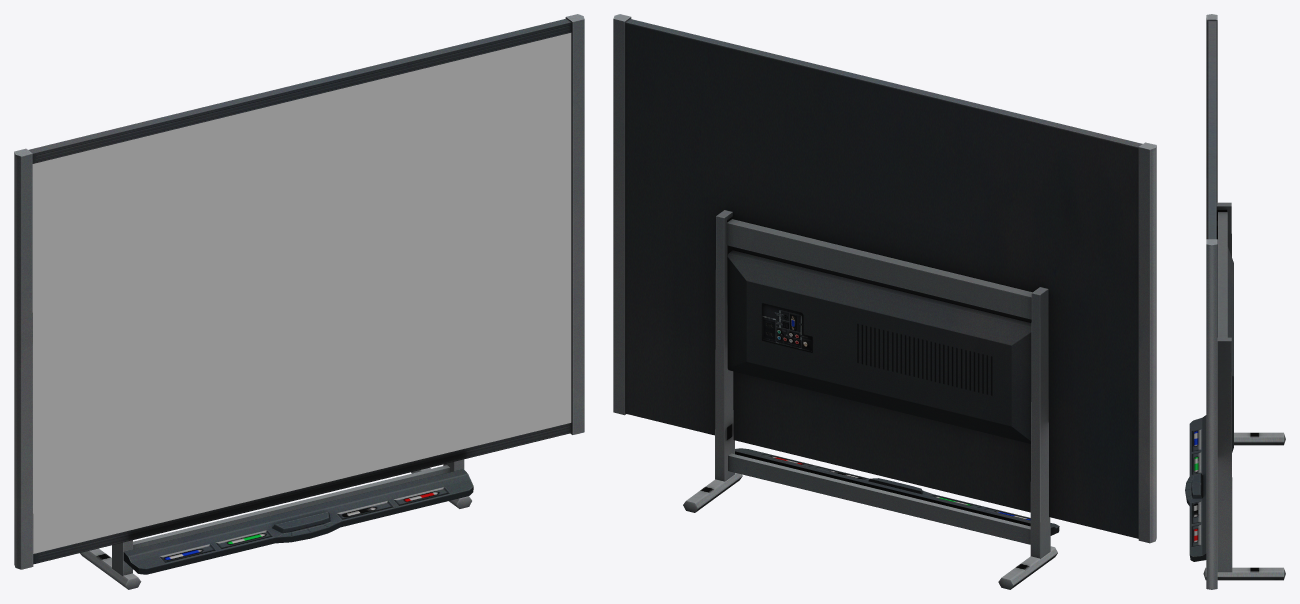
Rendered from Sun_na_Smart_Board_Wall.fbx.
3 renders of one model, left to right at view 1: azimuth 30°, elevation 25°; view 2: azimuth 150°, elevation 25°; view 3: azimuth 270°, elevation 25°, orthographic. The views are drawn at different scales.
Visible parts, largest first — view 1: Sun_na_Smart_Board; view 2: Sun_na_Smart_Board; view 3: Sun_na_Smart_Board.
Part boxes in pixels (left/top/right/bottom): Sun_na_Smart_Board: left=14, top=14, right=584, bottom=589; Sun_na_Smart_Board: left=613, top=14, right=1156, bottom=589; Sun_na_Smart_Board: left=1185, top=14, right=1285, bottom=589.
Size of the model in its own units: 149 by 115 by 27.45.
